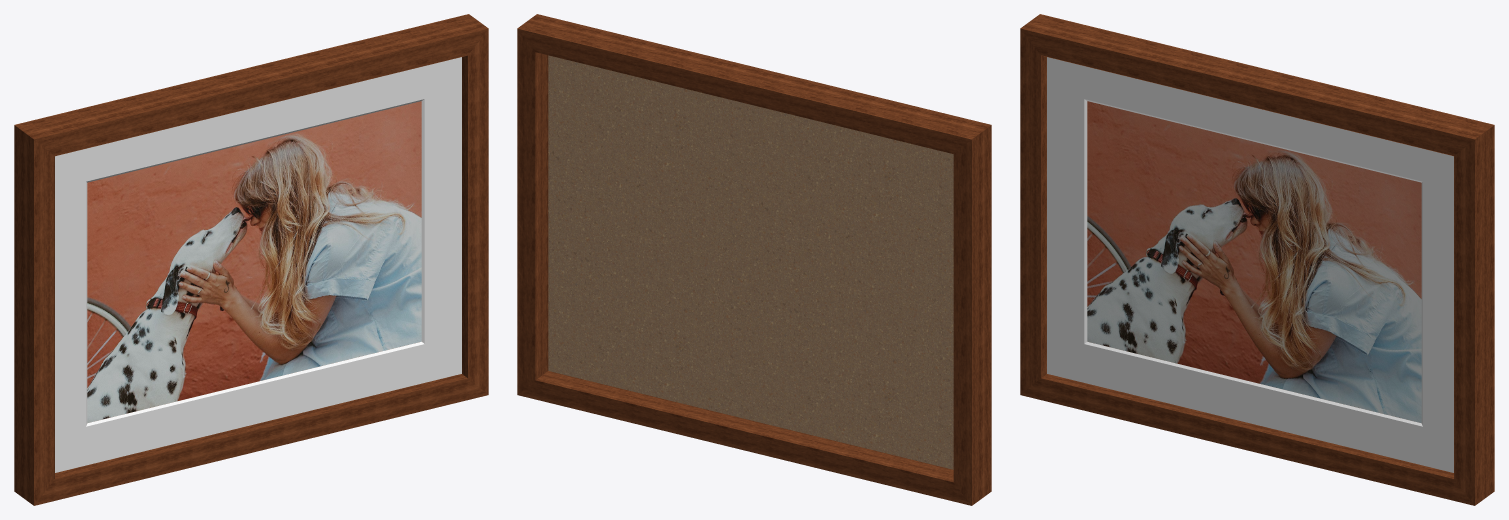
File: ppt.glb
The picture shows the model from 3 angles, left to right: view 1: azimuth 30°, elevation 25°; view 2: azimuth 150°, elevation 25°; view 3: azimuth 330°, elevation 25°; orthographic projection.
Visible parts, largest first — view 1: Motif, Frame, Passepartout; view 2: Back, Frame; view 3: Motif, Frame, Passepartout.
Part boxes in pixels (<box>): Motif: <box>87,101,421,422</box>; Frame: <box>14,14,488,505</box>; Passepartout: <box>55,57,461,472</box>; Back: <box>548,55,953,469</box>; Frame: <box>517,14,991,505</box>; Motif: <box>1087,101,1421,422</box>; Frame: <box>1020,14,1494,505</box>; Passepartout: <box>1047,57,1453,472</box>.
Size of the model in its own units: 0.435 by 0.335 by 0.033.
4 materials, 3 textured.
